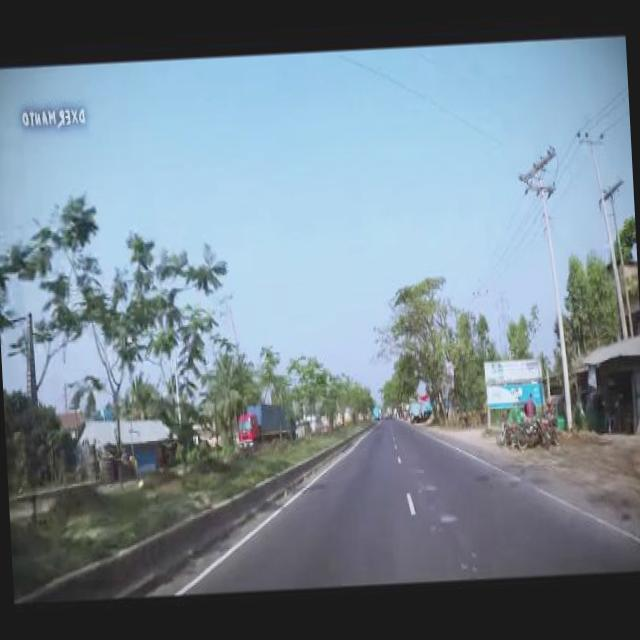motorcycle: (515, 414, 549, 450), (495, 418, 517, 449)
truck: (238, 402, 296, 451)
